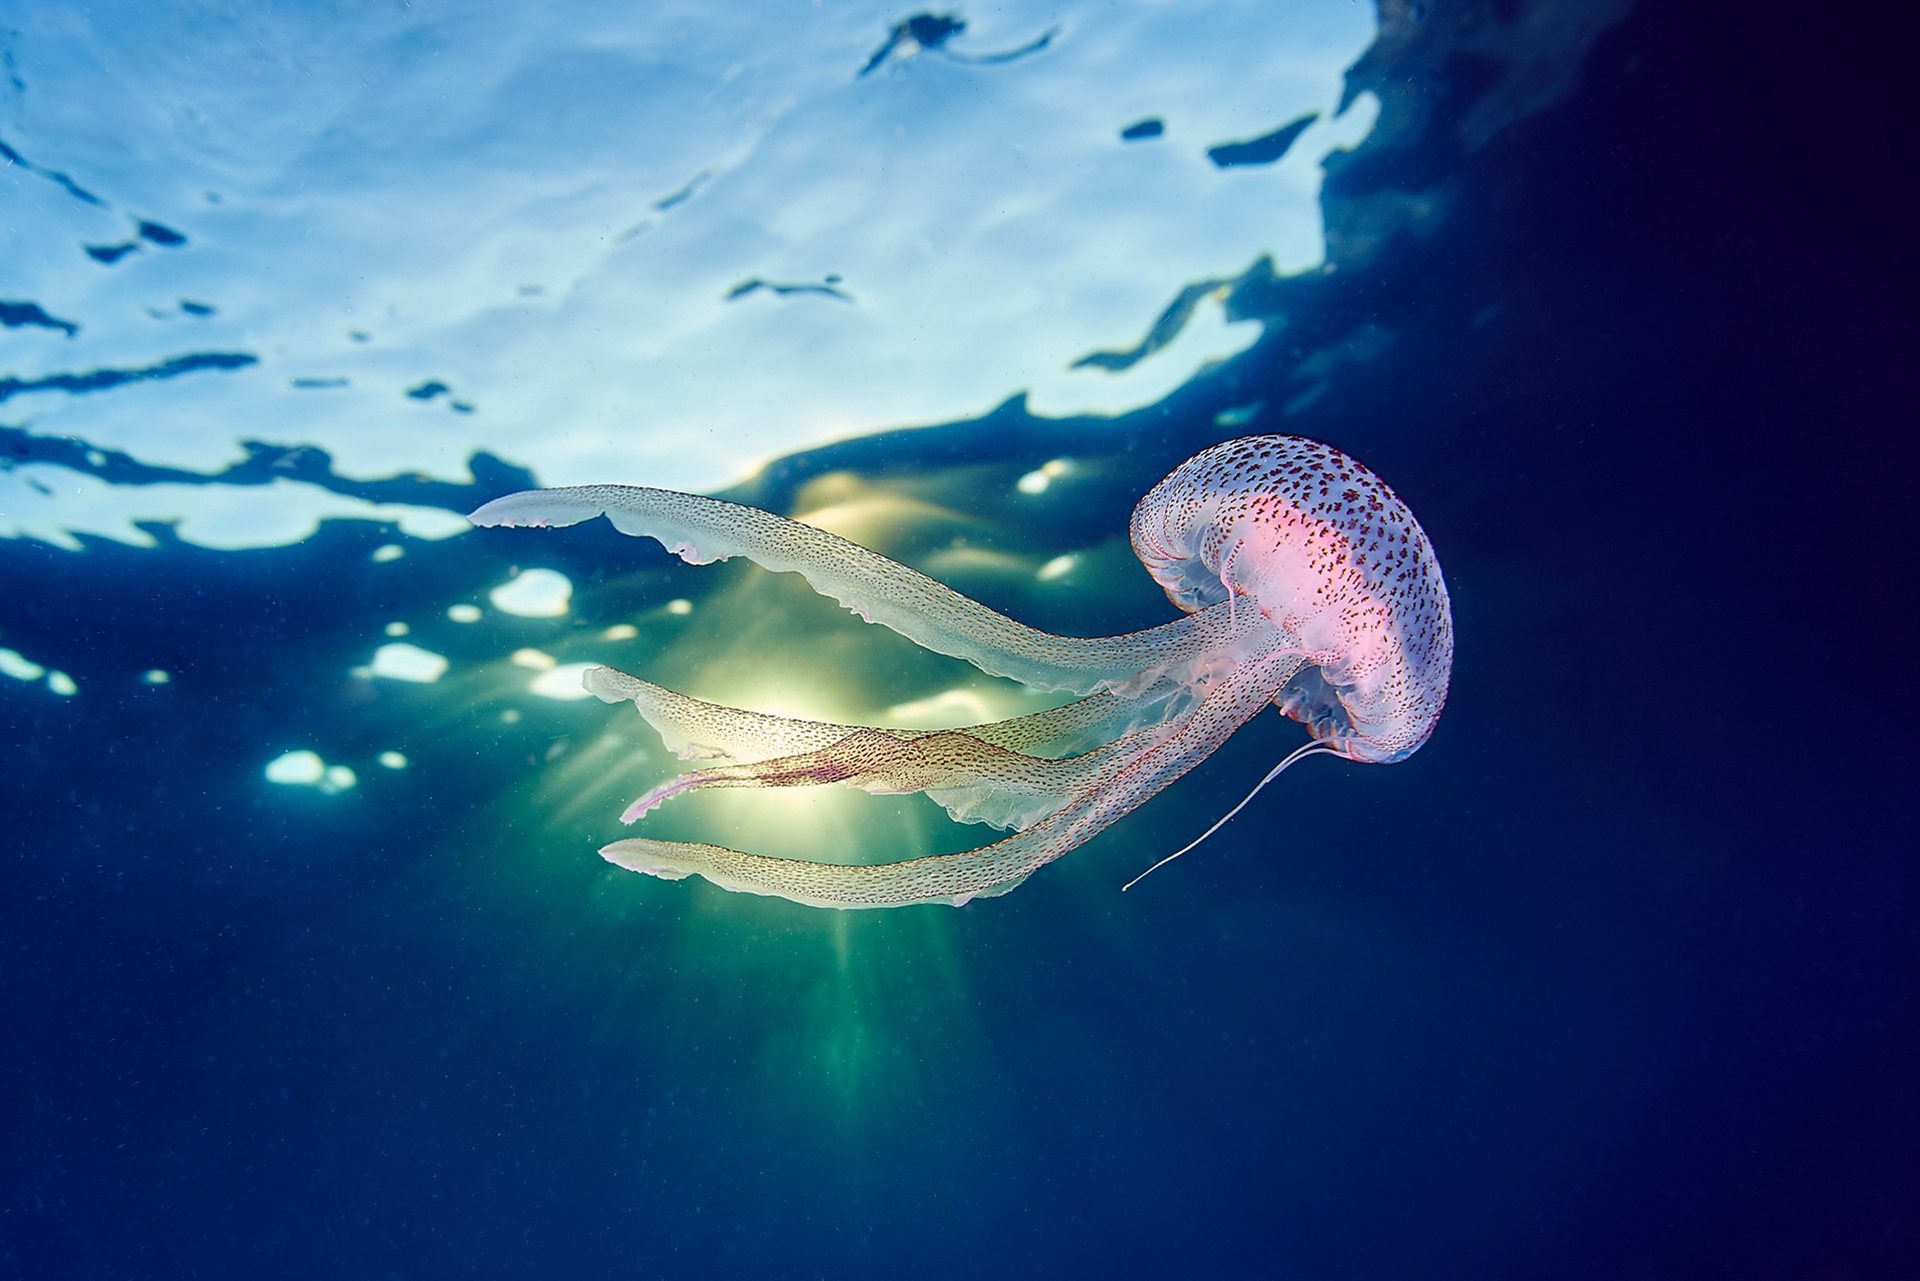jellyfish: (450, 397, 1588, 974)
